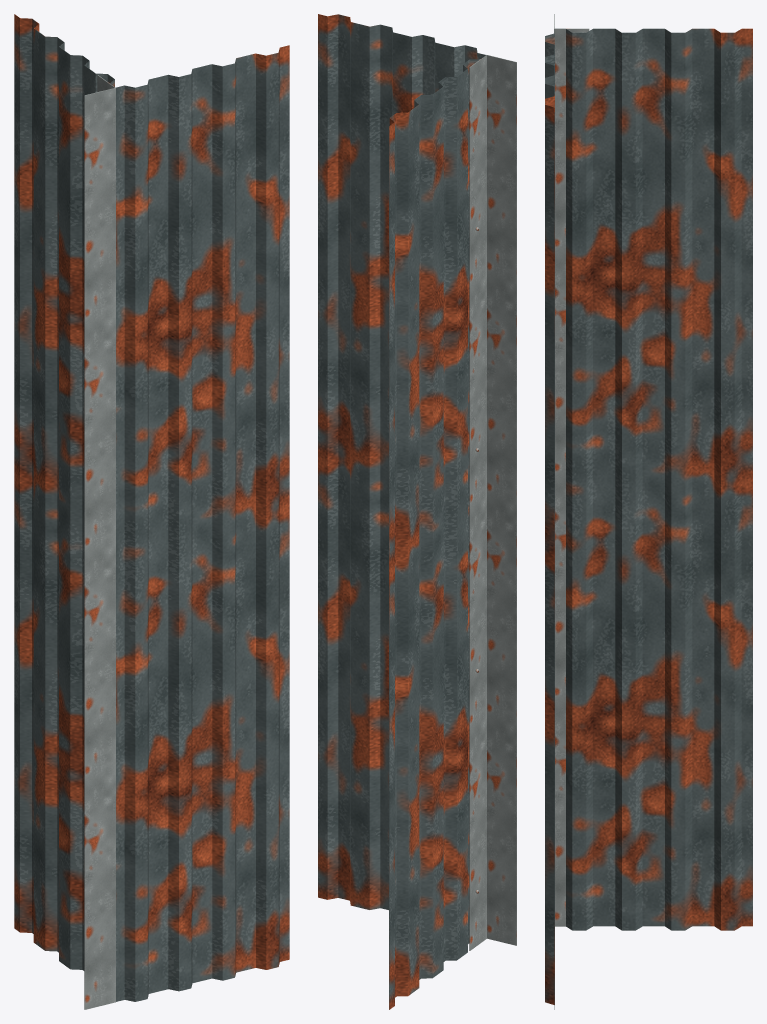
File: CORNER_INTERNAL_4000.glb
3 views of the same model, side by side, from view 1: azimuth 30°, elevation 25°; view 2: azimuth 150°, elevation 25°; view 3: azimuth 270°, elevation 25° (orthographic). The views are drawn at different scales.
Parts seen in each view (by area): view 1: CORNER_INTERNAL_4000__FoldedSheet_XLeg_800, CORNER_INTERNAL_4000__FoldedSheet_YLeg_800, CORNER_INTERNAL_4000__CornerFlashing_LProfile; view 2: CORNER_INTERNAL_4000__FoldedSheet_YLeg_800, CORNER_INTERNAL_4000__FoldedSheet_XLeg_800, CORNER_INTERNAL_4000__CornerFlashing_LProfile; view 3: CORNER_INTERNAL_4000__FoldedSheet_YLeg_800, CORNER_INTERNAL_4000__CornerFlashing_LProfile, CORNER_INTERNAL_4000__FoldedSheet_XLeg_800.
Boxes of the visible parts, box(x1,y1,x2,y2) form: CORNER_INTERNAL_4000__FoldedSheet_XLeg_800: box(115, 45, 289, 1001); CORNER_INTERNAL_4000__FoldedSheet_YLeg_800: box(14, 14, 114, 970); CORNER_INTERNAL_4000__CornerFlashing_LProfile: box(84, 75, 115, 1009); CORNER_INTERNAL_4000__FoldedSheet_YLeg_800: box(389, 55, 486, 1009); CORNER_INTERNAL_4000__FoldedSheet_XLeg_800: box(318, 14, 486, 909); CORNER_INTERNAL_4000__CornerFlashing_LProfile: box(469, 55, 516, 950); CORNER_INTERNAL_4000__FoldedSheet_YLeg_800: box(555, 28, 752, 930); CORNER_INTERNAL_4000__CornerFlashing_LProfile: box(554, 14, 589, 926); CORNER_INTERNAL_4000__FoldedSheet_XLeg_800: box(545, 29, 554, 1009).
Size of the model in its own units: 0.94 by 4 by 0.839.
2 materials, 2 textured.
